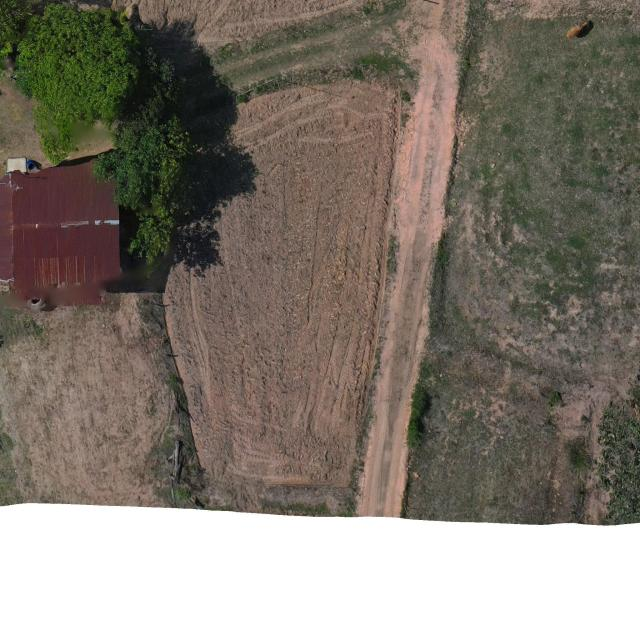Tree: (9, 2, 142, 167), (90, 115, 194, 269)
